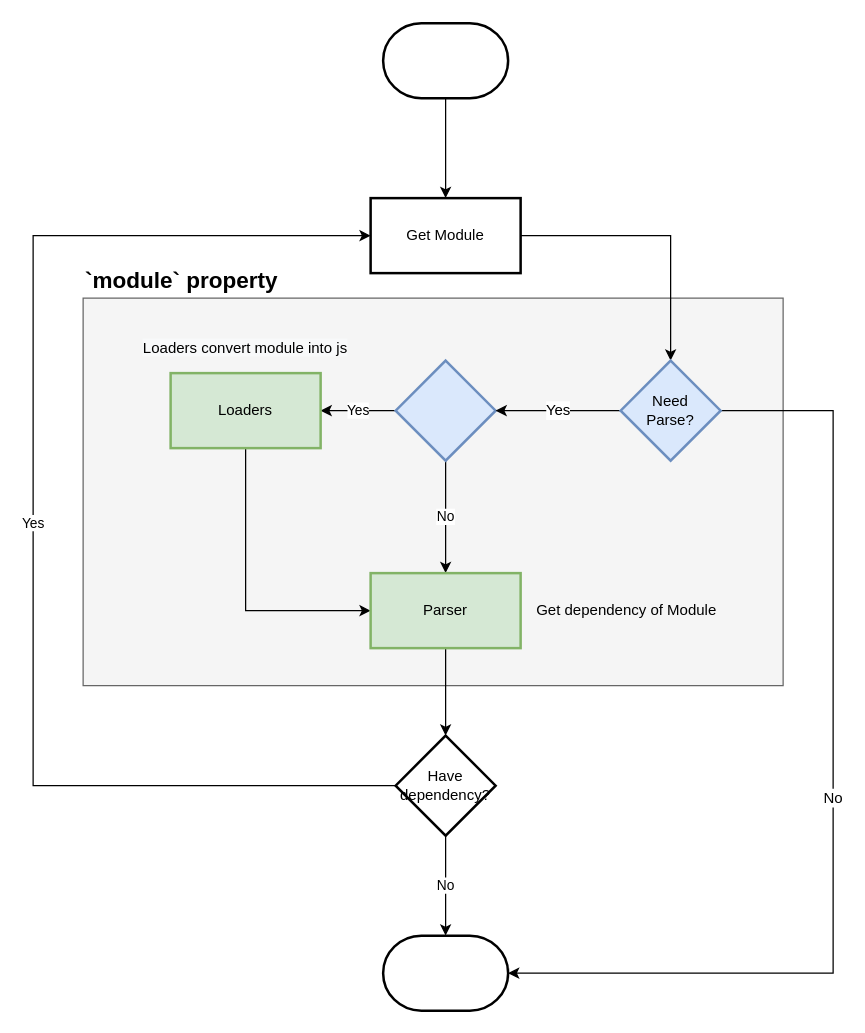
This 865x1033 diagram has some shape labels left out. The shapes that lost their labels are listed below. From the top down, each one's centre as x and y in pixels, then its label:
At (x=445, y=60): "Start Compilation".
At (x=445, y=410): "Need loaders?".
At (x=445, y=972): "Finished".
